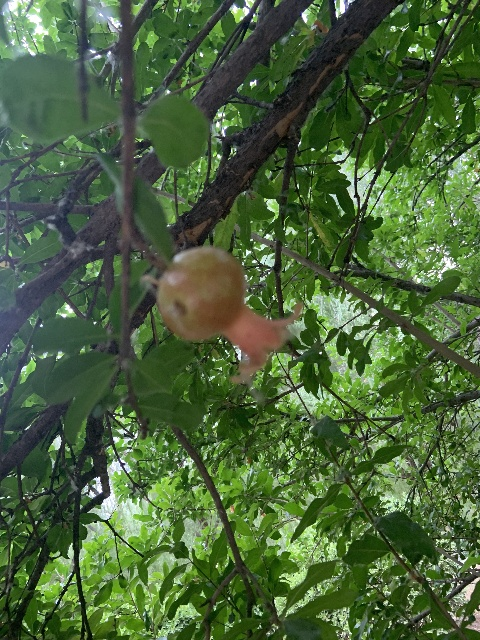early-fruit: (156, 247, 302, 382)
